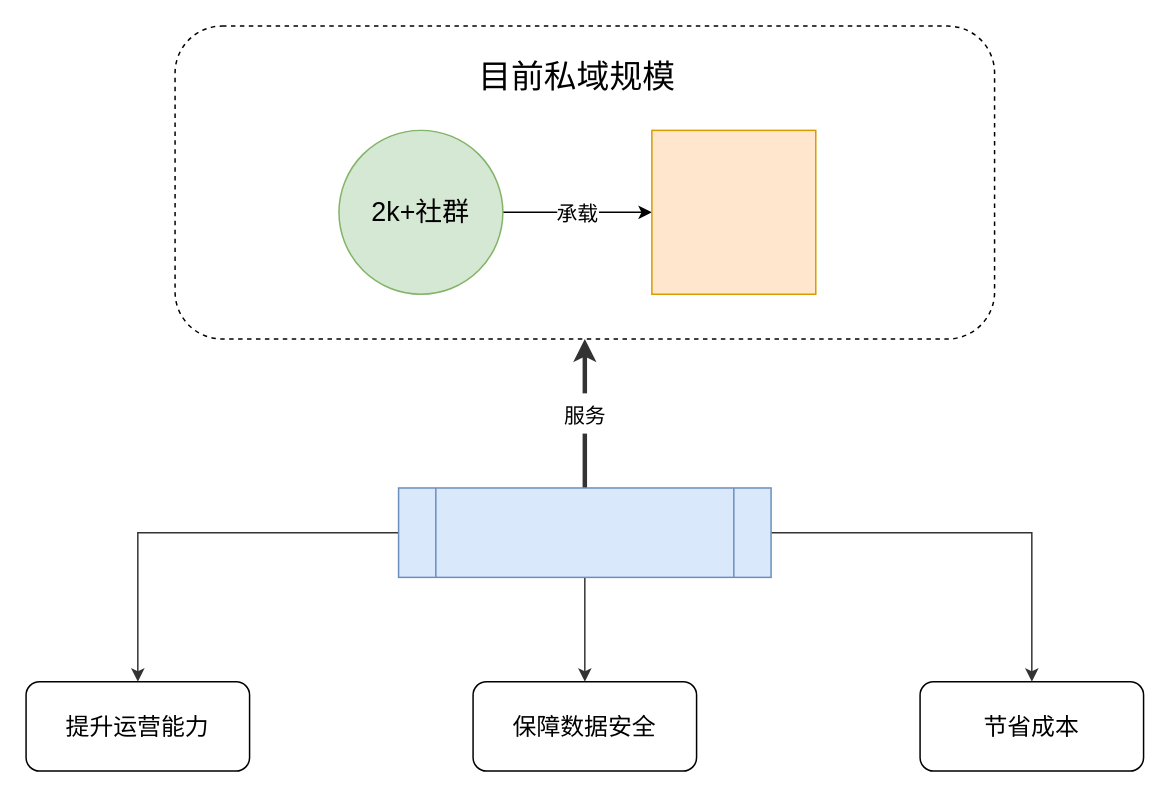
Some shapes in this 1170 by 797 pixel diagram are drawn without their labels. Here are the shapes that lost their labels. From the top down, the centre of each, then its label:
(733,211): 20W用户
(584,531): 破解版企业微信
